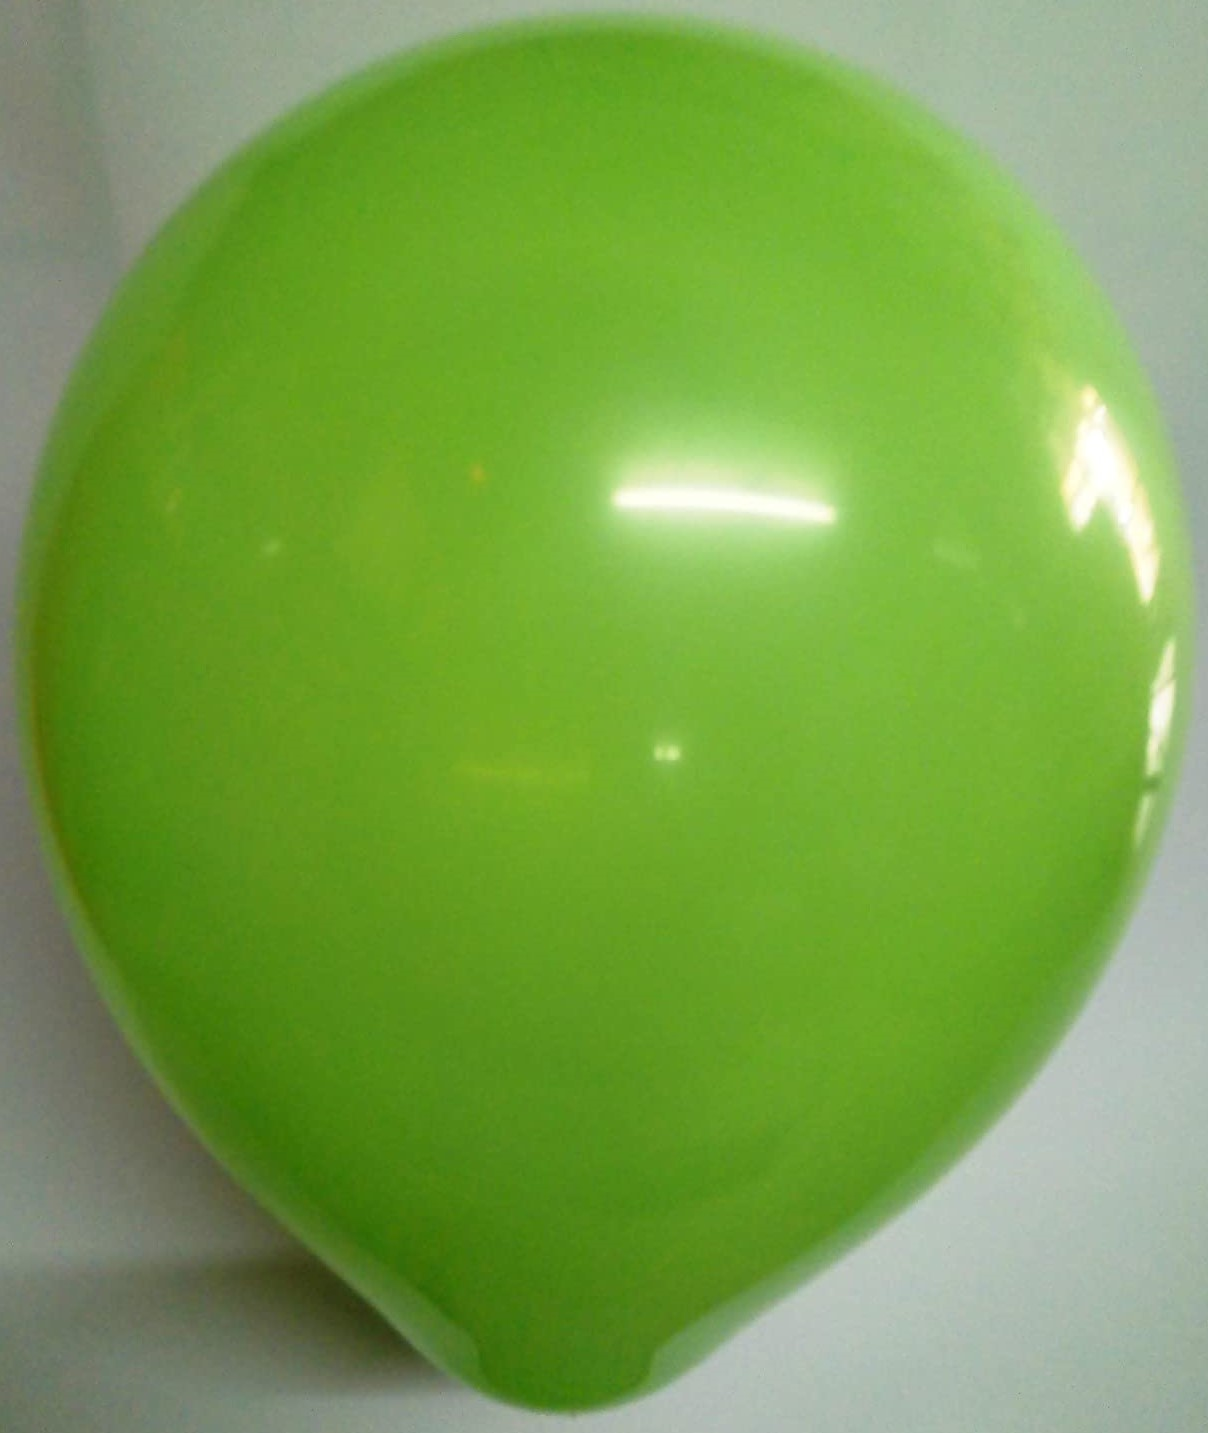Balloon: (22, 20, 1198, 1411)
